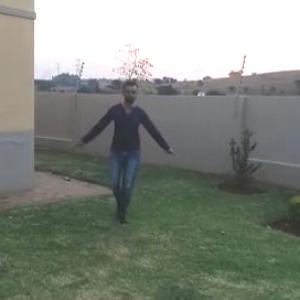land: (73, 79, 176, 240)
